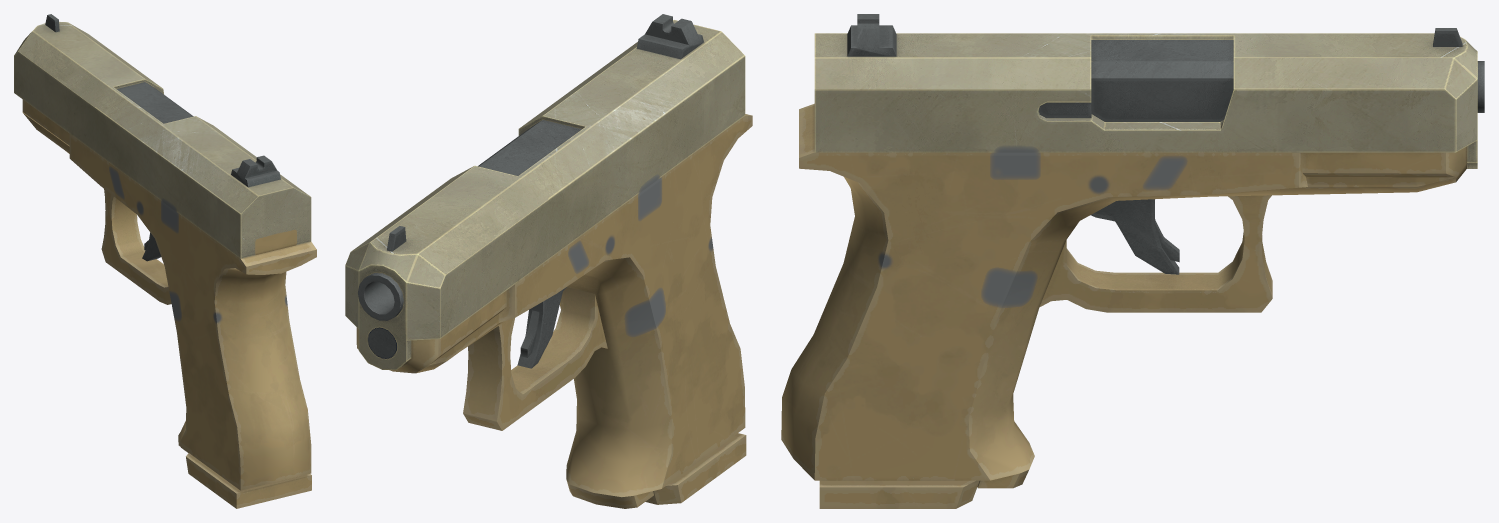
Rendered from Agent_Handheld_Glicklow.fbx.
3 views of the same model, side by side, from view 1: azimuth 30°, elevation 25°; view 2: azimuth 150°, elevation 25°; view 3: azimuth 270°, elevation 25° (orthographic). The views are drawn at different scales.
Parts seen in each view (by area): view 1: Pfb_WPM_Glock_01; view 2: Pfb_WPM_Glock_01; view 3: Pfb_WPM_Glock_01.
Part boxes in pixels (x1,y1,x2,y2): Pfb_WPM_Glock_01: [14, 14, 316, 508]; Pfb_WPM_Glock_01: [345, 14, 752, 508]; Pfb_WPM_Glock_01: [781, 14, 1484, 508].
Bounding box in the file's own units: 0.0714 × 0.2949 × 0.4072.
Materials: 1 (1 with a texture image).
